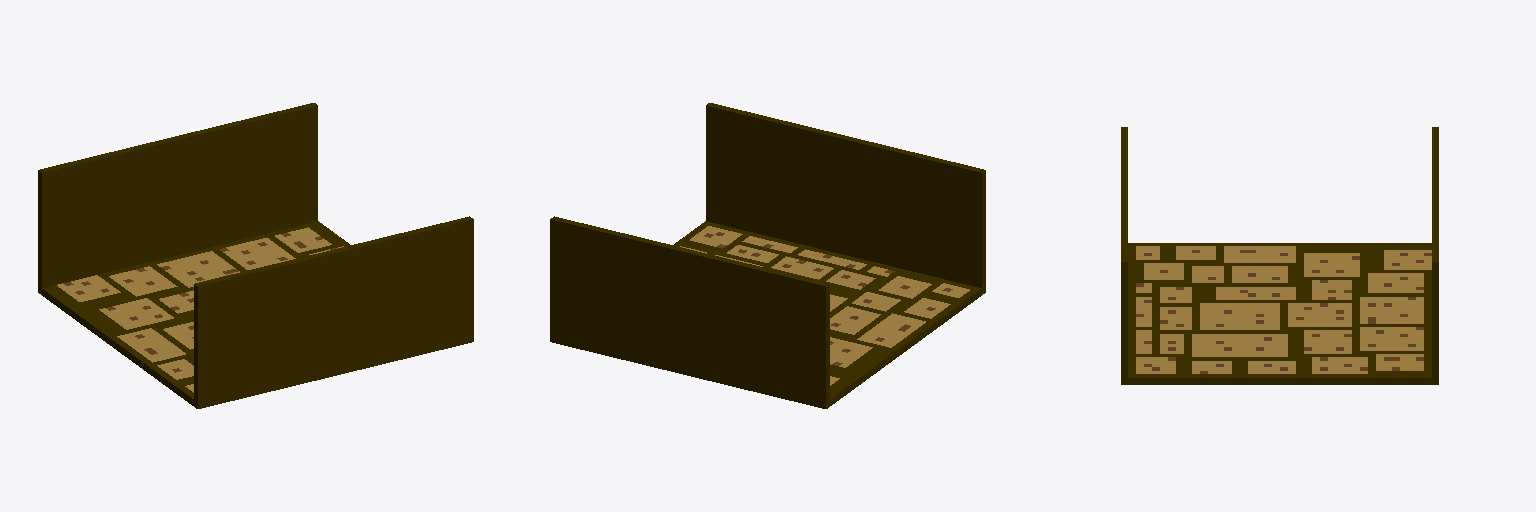
The picture shows the model from 3 angles: view 1: azimuth 30°, elevation 25°; view 2: azimuth 150°, elevation 25°; view 3: azimuth 270°, elevation 25°; orthographic projection.
Visible parts, largest first — view 1: object 1; view 2: object 1; view 3: object 1.
Boxes of the visible parts, x1=… form: object 1: x1=38, y1=103, x2=473, y2=408; object 1: x1=550, y1=103, x2=985, y2=408; object 1: x1=1121, y1=127, x2=1438, y2=384.
Bounding box in the file's own units: 4 × 1.7 × 4.
1 materials, 1 textured.